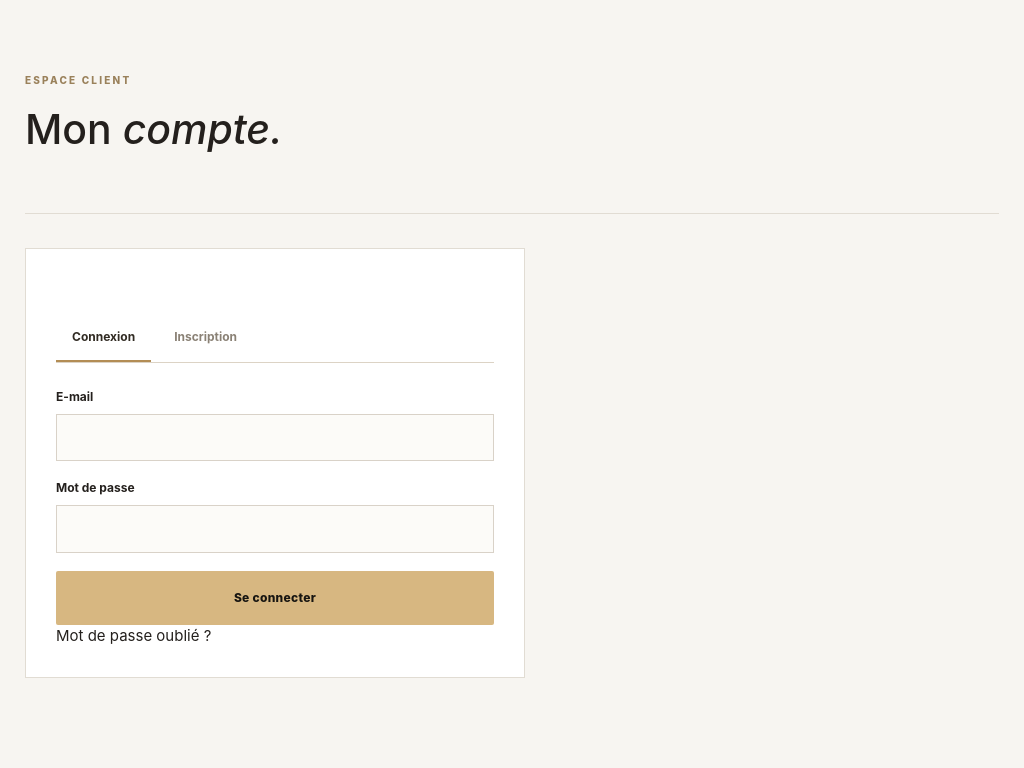
Test: authentifie via Inscription et permet la déconnexion
Click the button "Inscription" at (206, 338), box top-left (158, 314), bottom-right (253, 362)
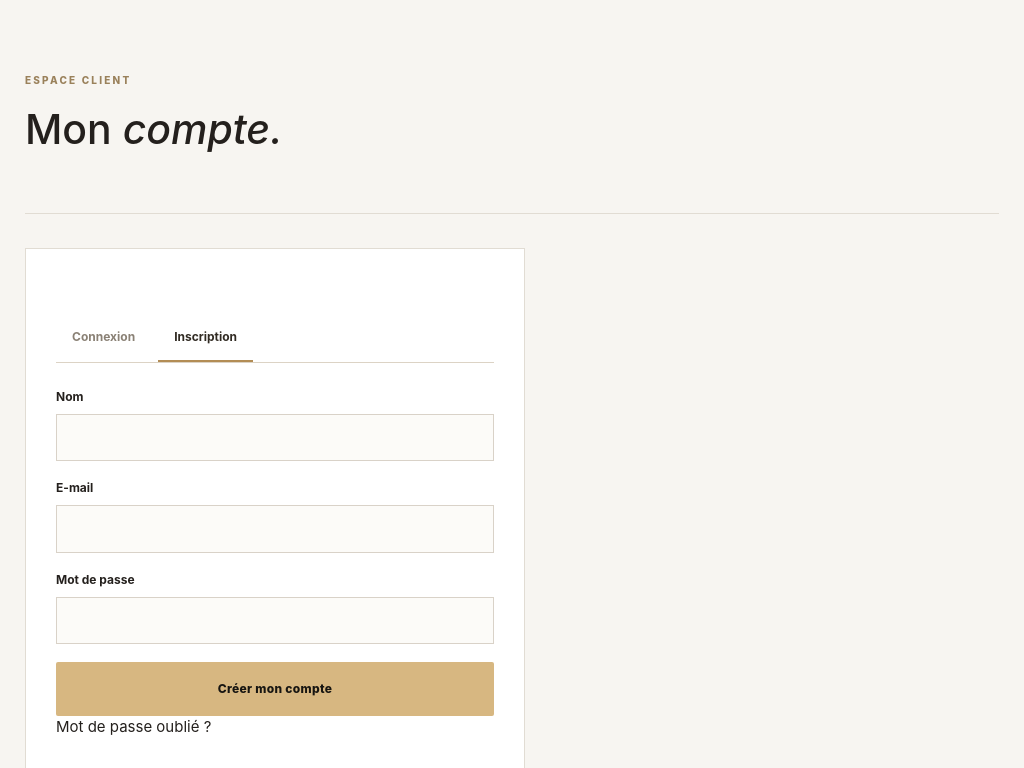
Type "Alice" into the field labelled "Nom" at (275, 437), box top-left (56, 414), bottom-right (494, 461)
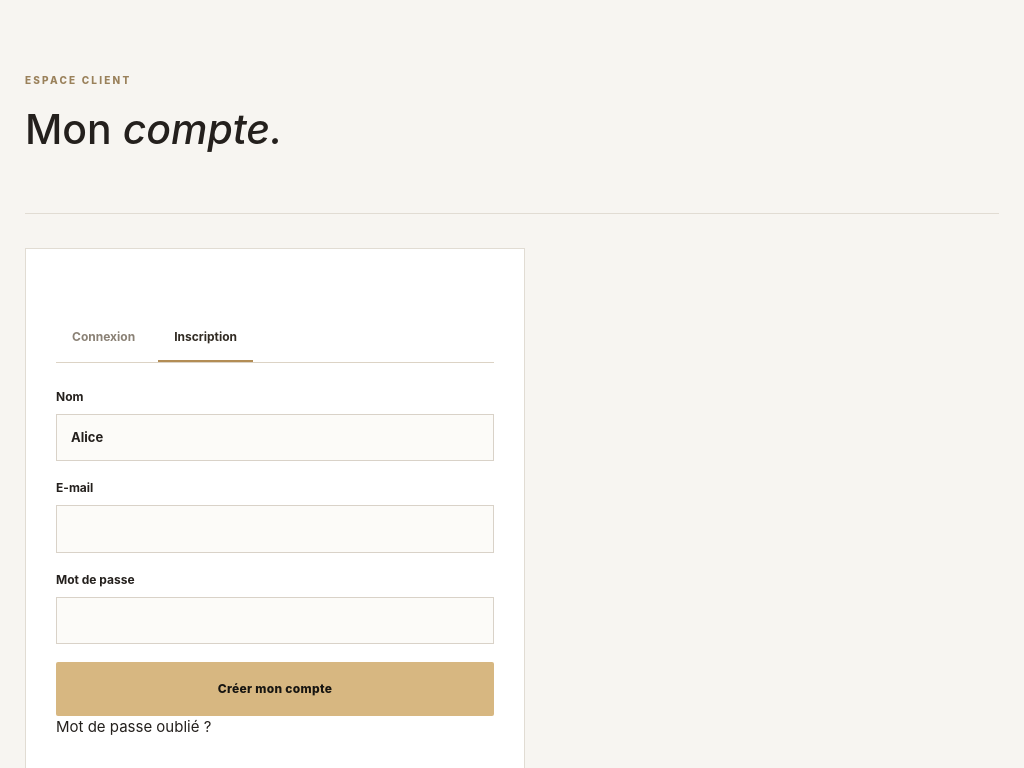
Type "alice@example.com" into the field labelled "E-mail" at (275, 529), box top-left (56, 505), bottom-right (494, 553)
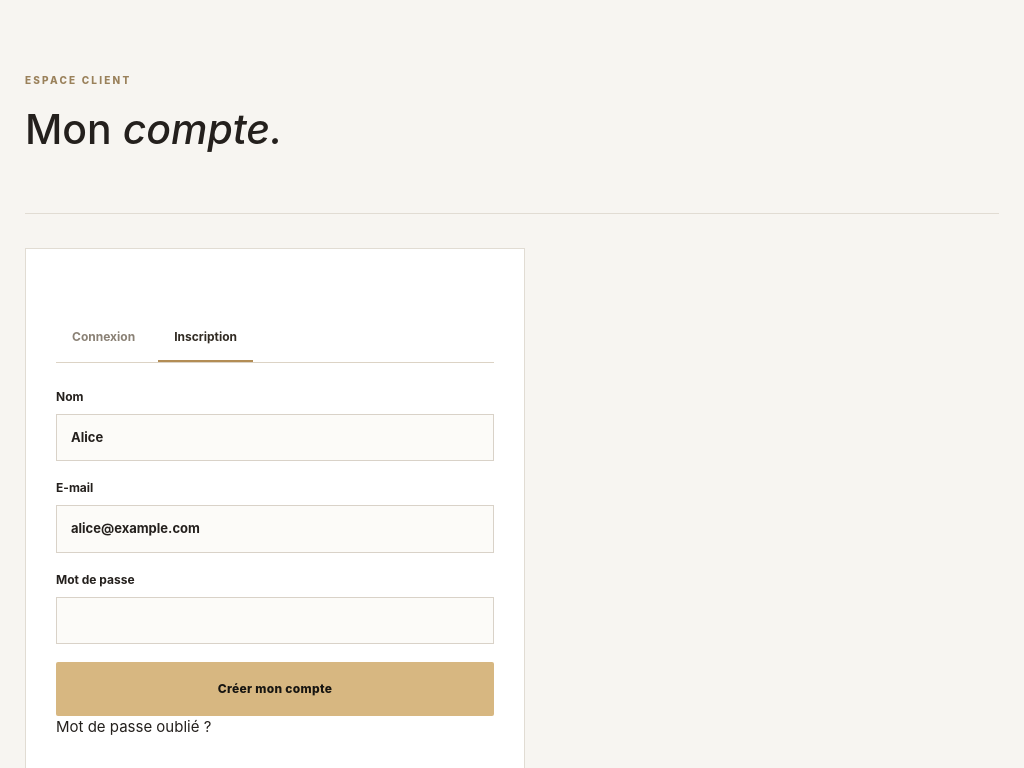
Type "Secret123!" into the password field labelled "Mot de passe" at (275, 620), box top-left (56, 597), bottom-right (494, 644)
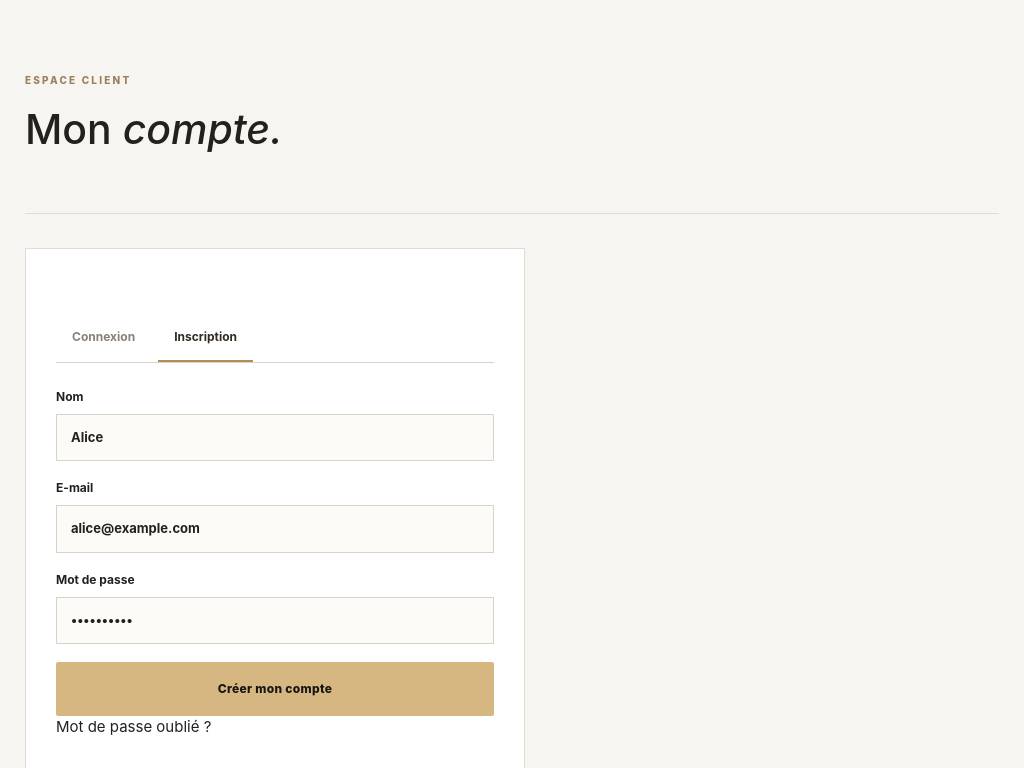
Click the button "Créer mon compte" at (275, 689), box top-left (56, 662), bottom-right (494, 716)
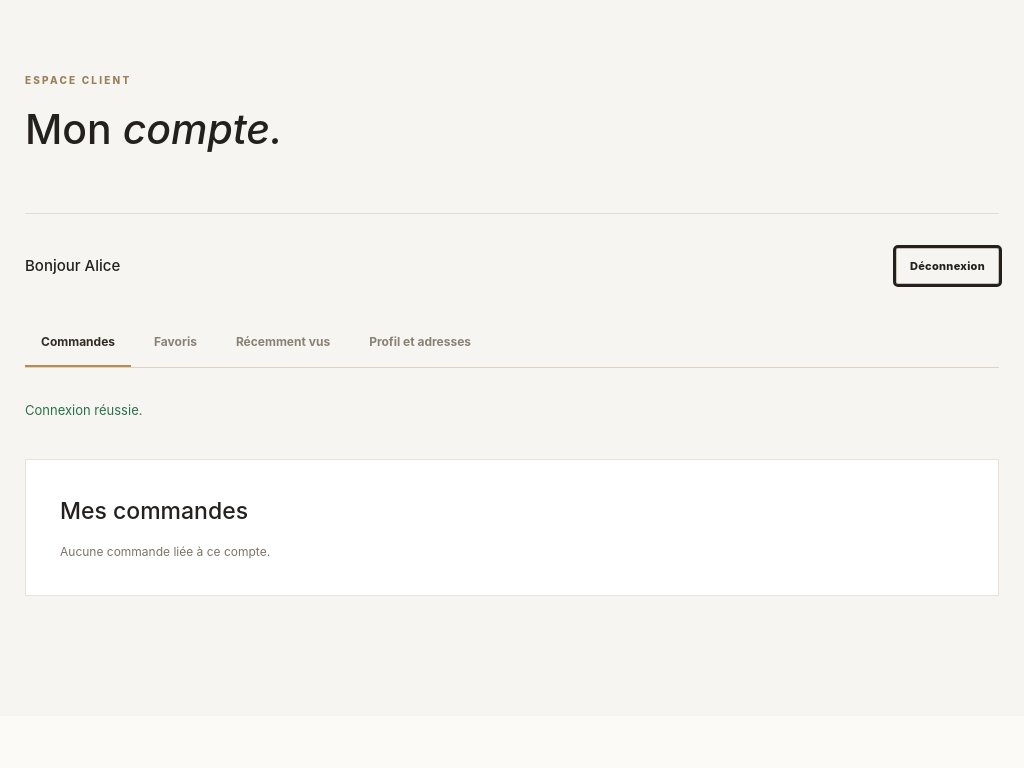
Result: the heading "Bonjour Alice" is shown at top-left (25, 255), bottom-right (120, 277)
Click the button "Déconnexion" at (948, 266), box top-left (896, 248), bottom-right (999, 284)
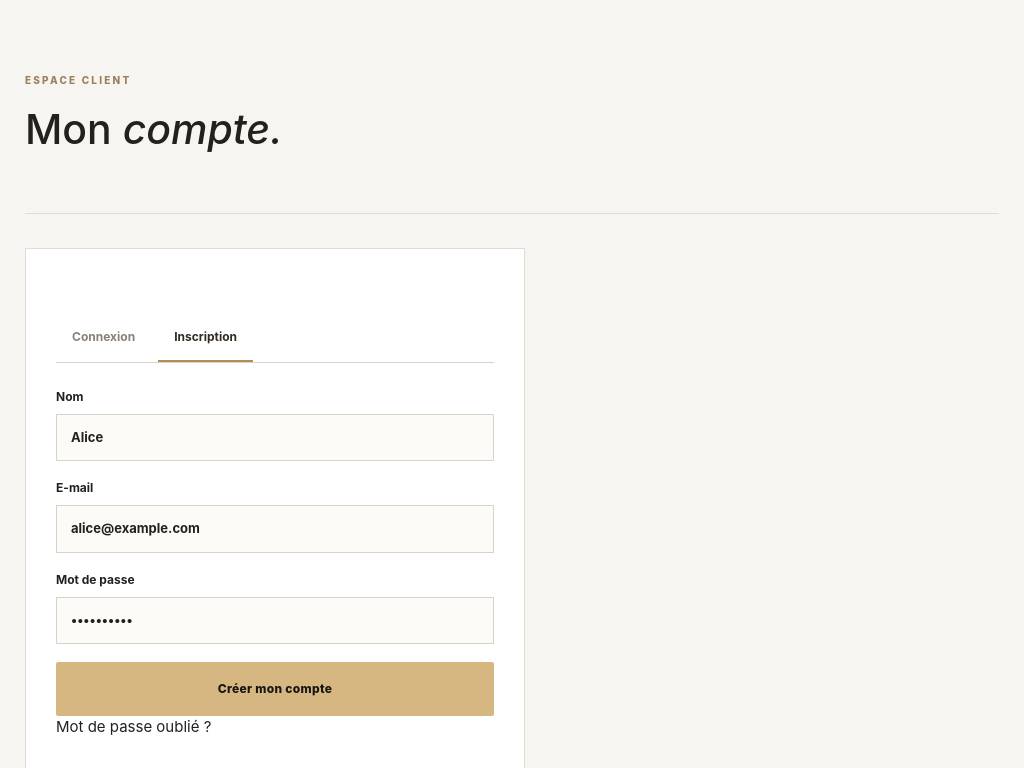
Result: the button "Créer mon compte" is shown at top-left (56, 662), bottom-right (494, 716)
Result: the heading "Bonjour Alice" is gone
